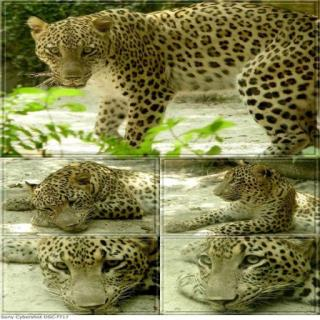Leopard: (18, 1, 320, 149), (4, 154, 162, 232), (26, 233, 167, 316), (171, 236, 318, 308), (198, 159, 306, 233)
